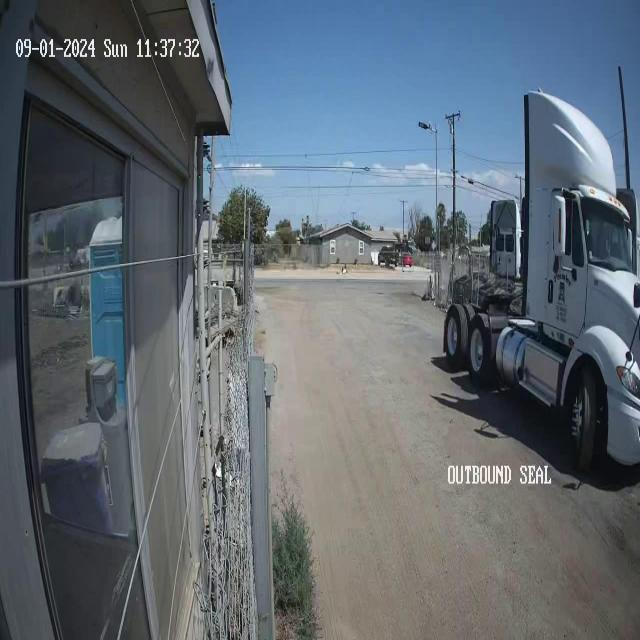TRUCK_IN: (442, 78, 640, 472)
